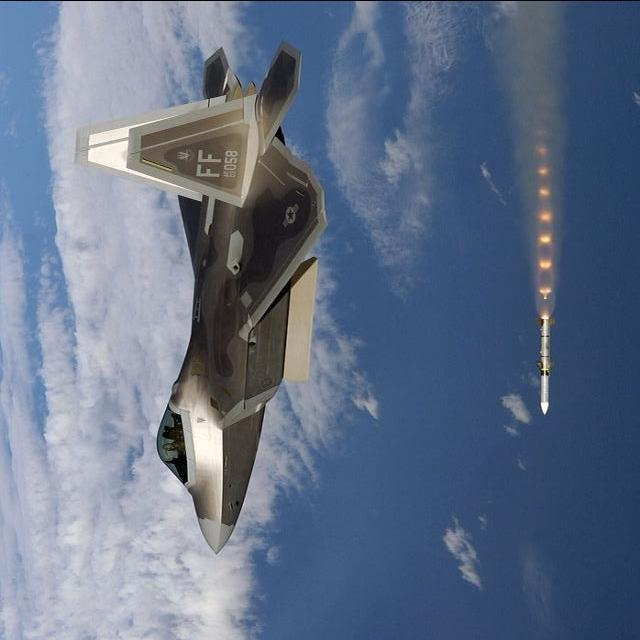missile: (538, 313, 554, 418), (546, 358, 551, 417)
